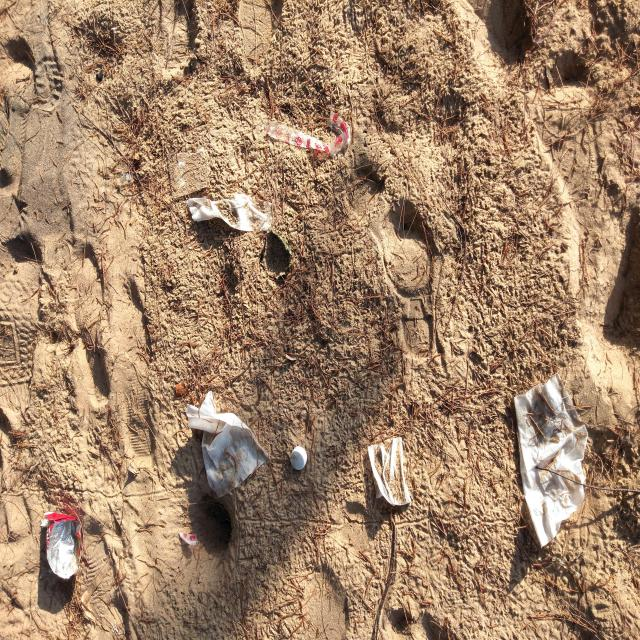litter: (371, 479, 424, 640), (134, 503, 195, 637), (192, 144, 252, 196), (134, 248, 196, 297), (265, 560, 297, 640), (120, 188, 151, 255), (209, 572, 222, 601)
